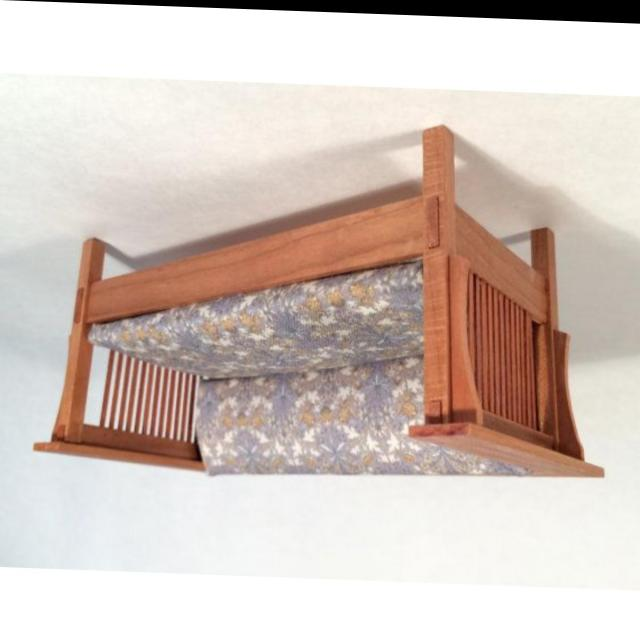Sofa: (30, 107, 608, 487)
